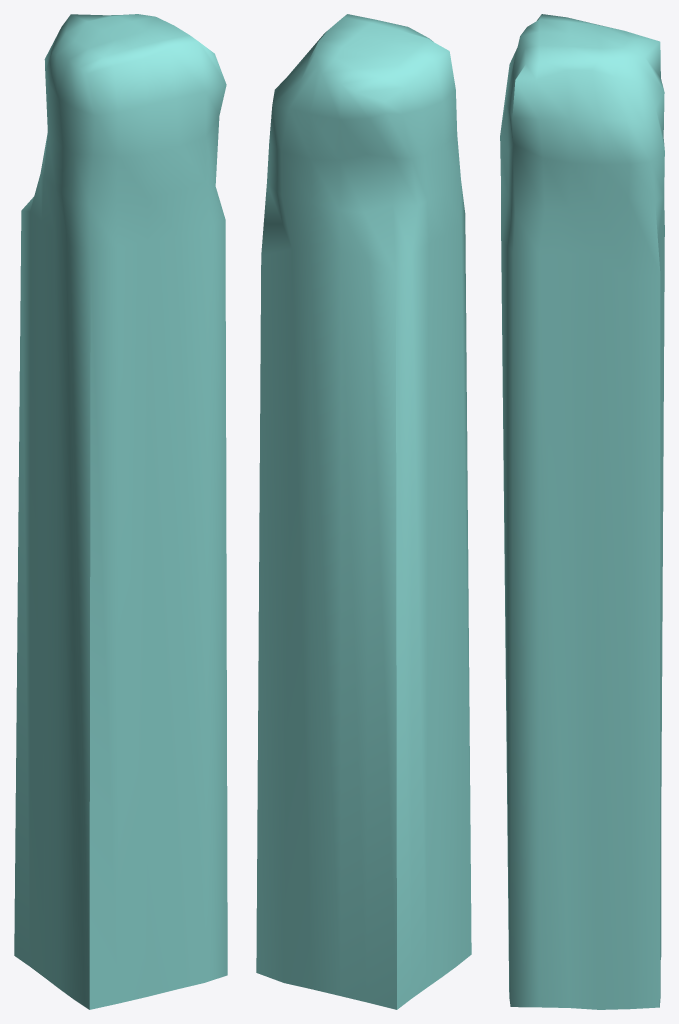
The picture shows the model from 3 angles, left to right: view 1: azimuth 30°, elevation 25°; view 2: azimuth 150°, elevation 25°; view 3: azimuth 270°, elevation 25°; orthographic projection.
Visible parts, largest first — view 1: Cube.007; view 2: Cube.007; view 3: Cube.007.
Boxes of the visible parts, bbox=[...] form: Cube.007: bbox=[14, 14, 227, 1009]; Cube.007: bbox=[256, 14, 471, 1009]; Cube.007: bbox=[500, 14, 664, 1009].
Size of the model in its own units: 595 by 3532 by 563.
